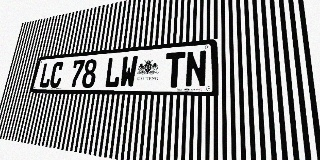7: (68, 60, 85, 88)
8: (81, 59, 98, 88)
C: (49, 61, 65, 88)
L: (104, 57, 122, 88), (38, 62, 54, 88)
N: (185, 50, 207, 88)
T: (164, 52, 185, 88)
W: (119, 55, 138, 88)
